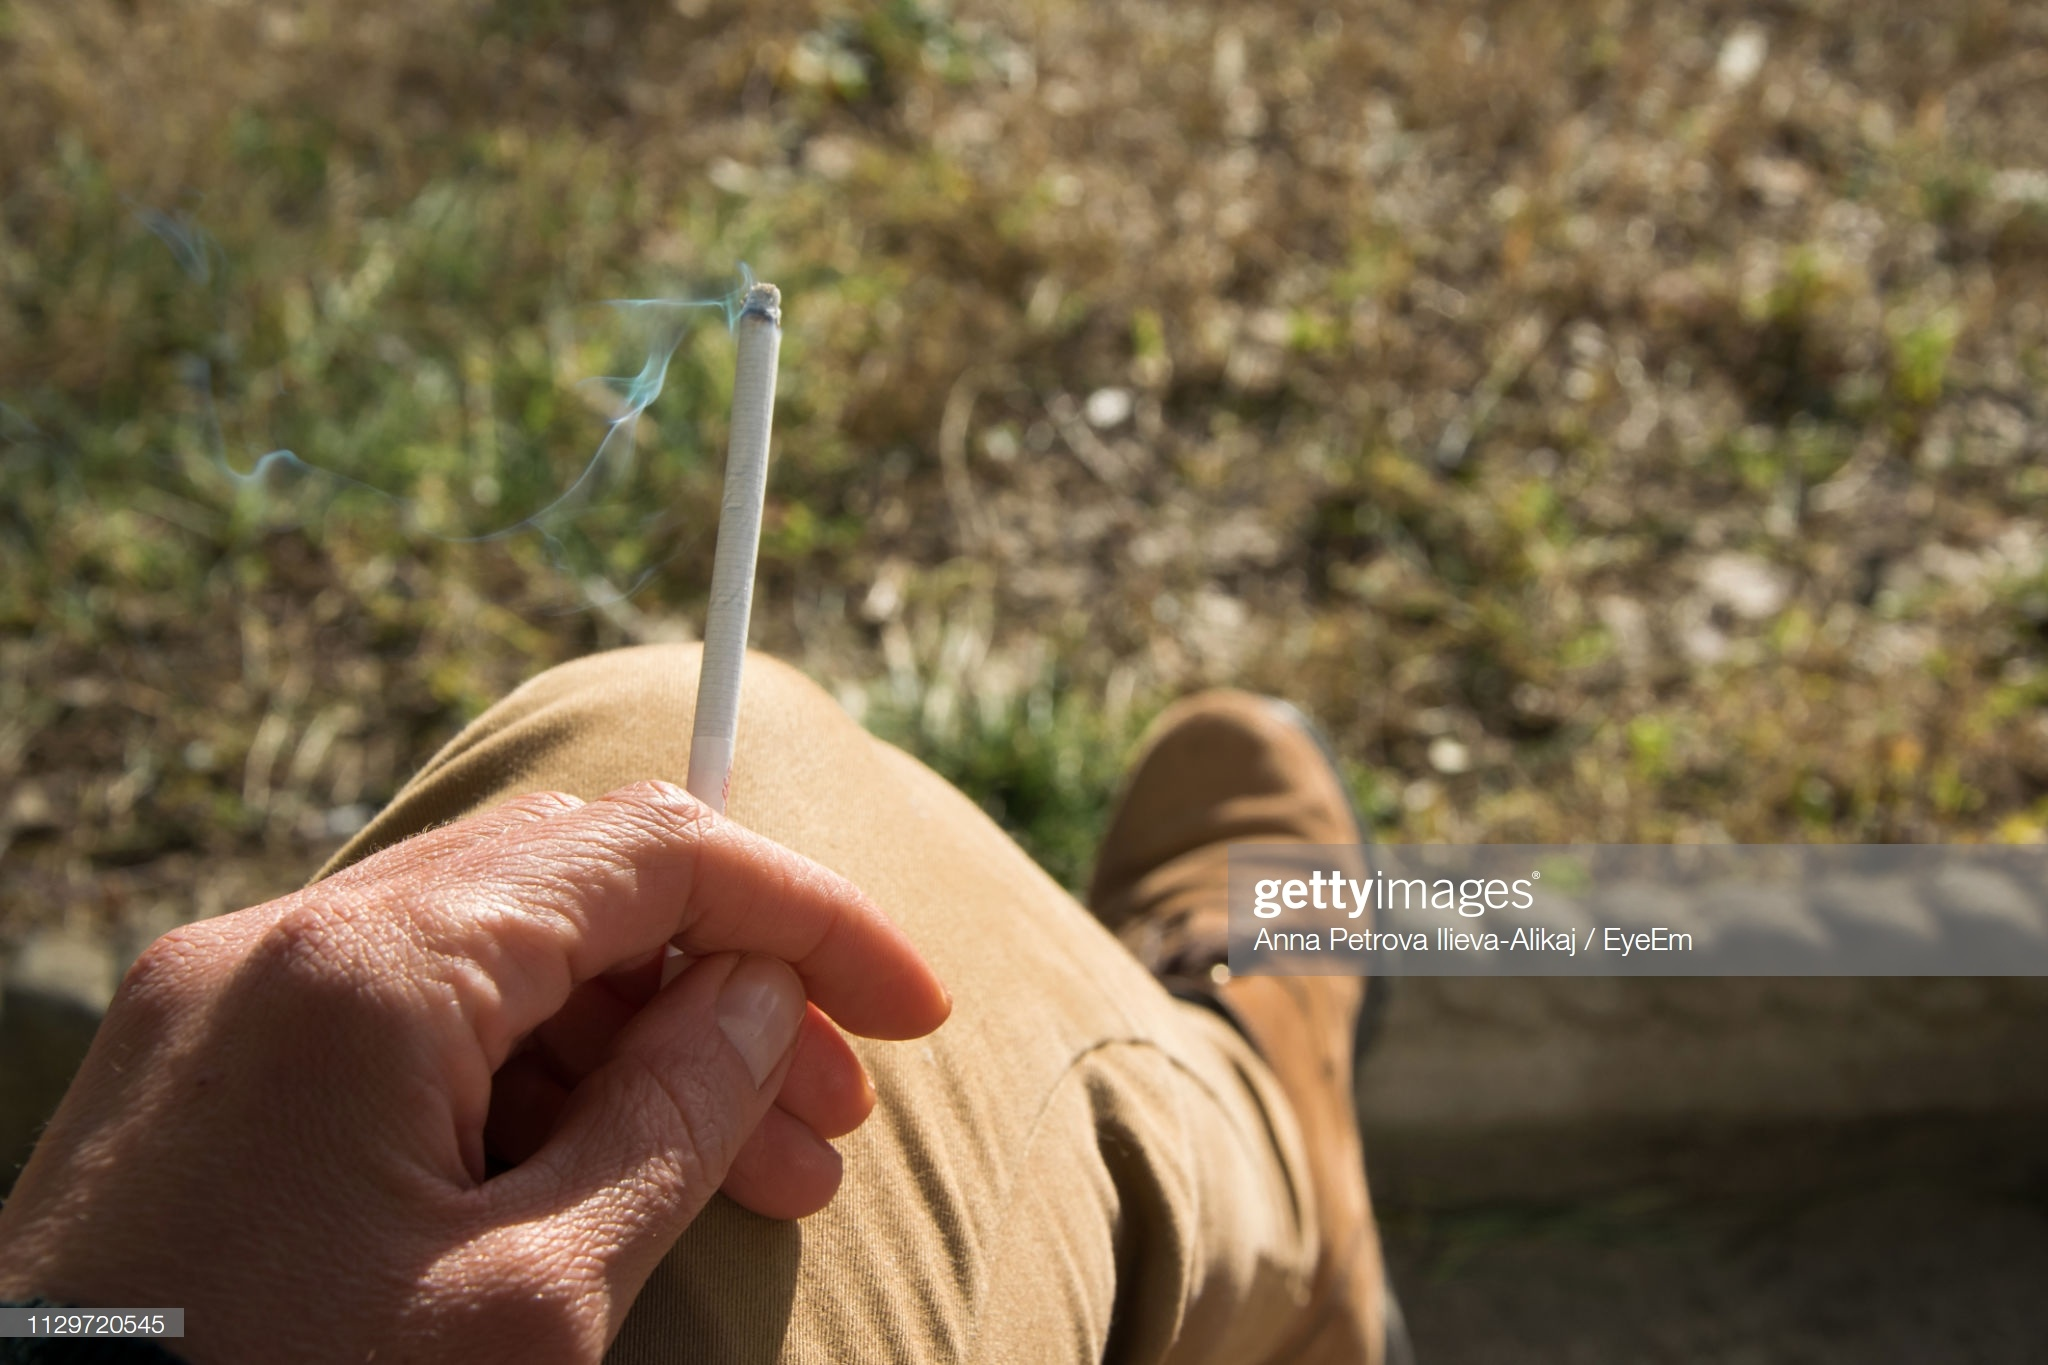sigaretta: (665, 277, 796, 818)
